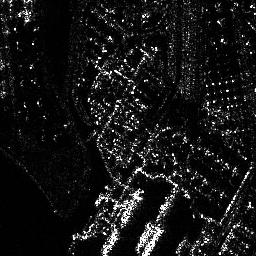ship: (119, 187, 145, 228), (131, 217, 154, 251), (140, 228, 165, 256), (100, 228, 120, 256)
